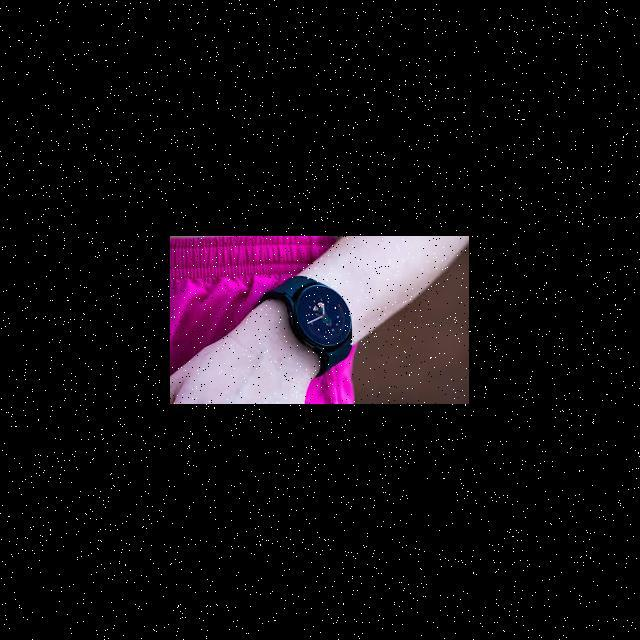watch: (252, 258, 370, 385)
